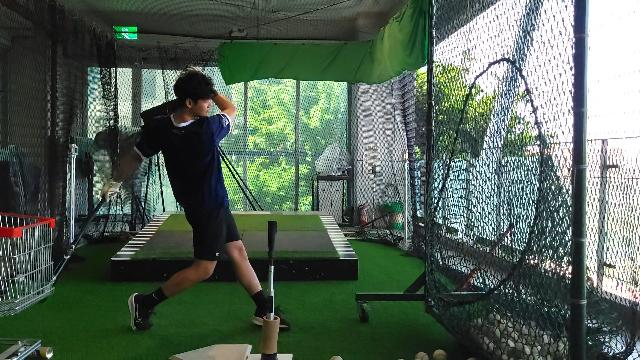baseball bat: (35, 197, 105, 302)
